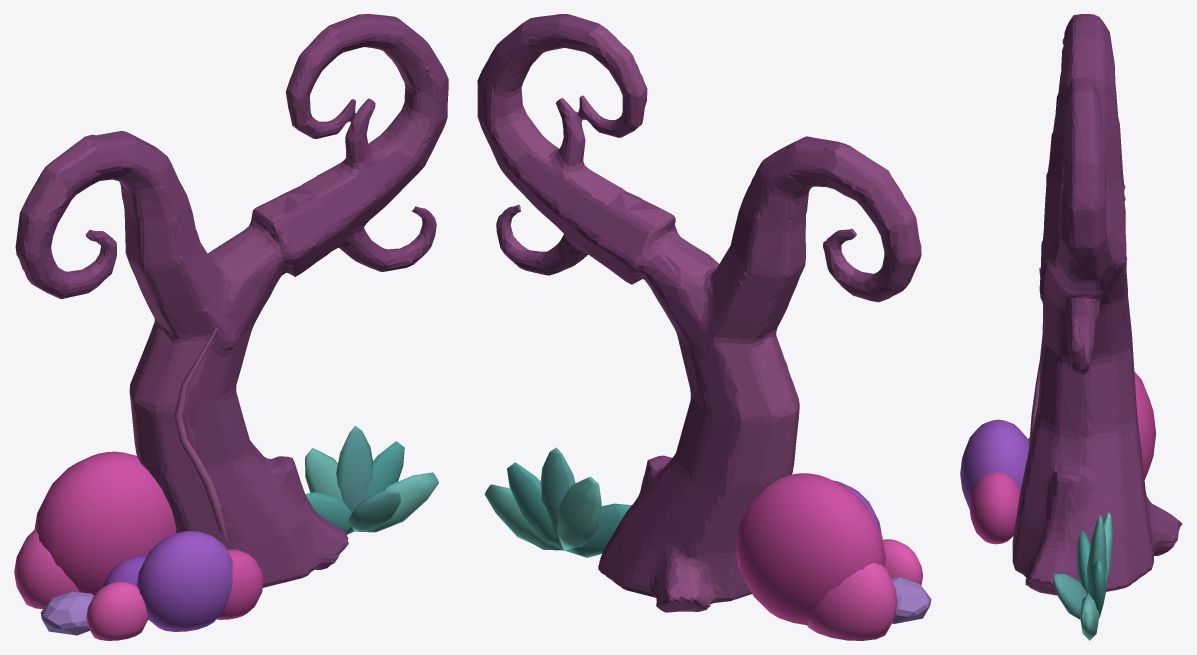
The model's file is crooked_dead_tree_NEW.glb.
3 views of the same model, side by side, from view 1: azimuth 30°, elevation 25°; view 2: azimuth 150°, elevation 25°; view 3: azimuth 270°, elevation 25° (orthographic). The views are drawn at different scales.
Visible parts, largest first — view 1: crooked_dead_tree_NEW_visual; view 2: crooked_dead_tree_NEW_visual; view 3: crooked_dead_tree_NEW_visual.
Boxes of the visible parts, x1,y1,x2,y2 form: crooked_dead_tree_NEW_visual: (14, 14, 448, 640); crooked_dead_tree_NEW_visual: (477, 14, 931, 640); crooked_dead_tree_NEW_visual: (960, 14, 1182, 640).
Bounding box in the file's own units: 2.48 × 2.91 × 1.1.
